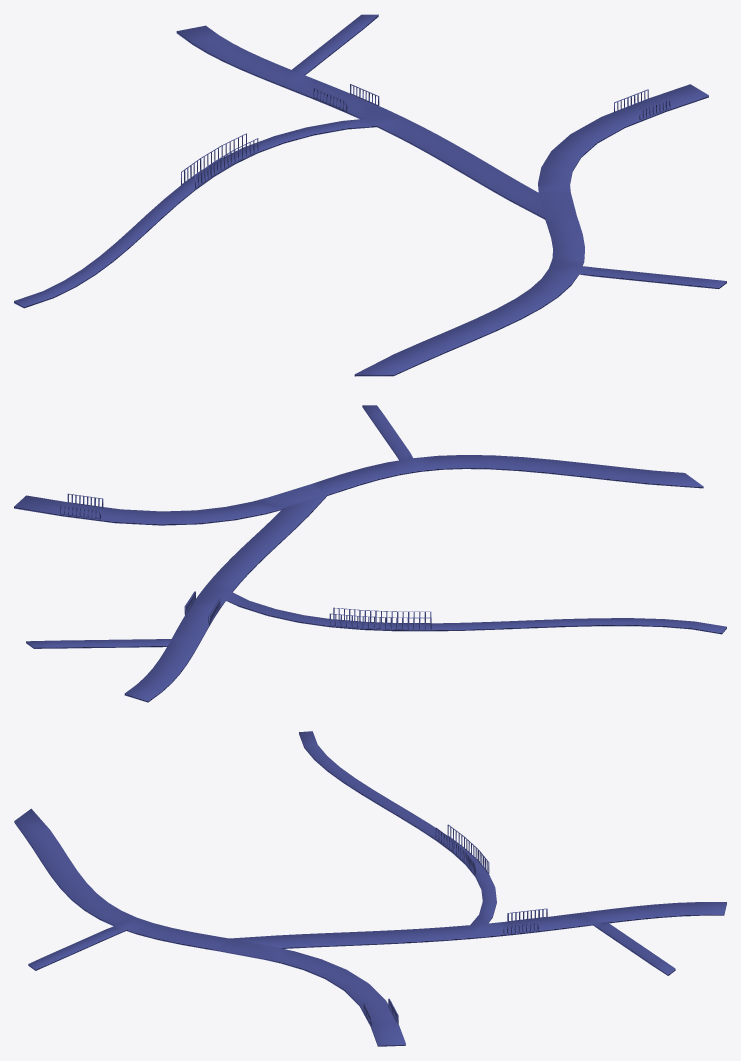
The model's file is 022_NURBSパス001.glb.
3 views of the same model, one above another, from view 1: azimuth 30°, elevation 25°; view 2: azimuth 150°, elevation 25°; view 3: azimuth 270°, elevation 25° (orthographic). The views are drawn at different scales.
Visible parts, largest first — view 1: NURBSパス001; view 2: NURBSパス001; view 3: NURBSパス001.
Part boxes in pixels (<box>): NURBSパス001: <box>14,14,726,376</box>; NURBSパス001: <box>14,405,726,702</box>; NURBSパス001: <box>14,731,726,1046</box>.
Bounding box in the file's own units: 95.25 × 1.88 × 91.49.
